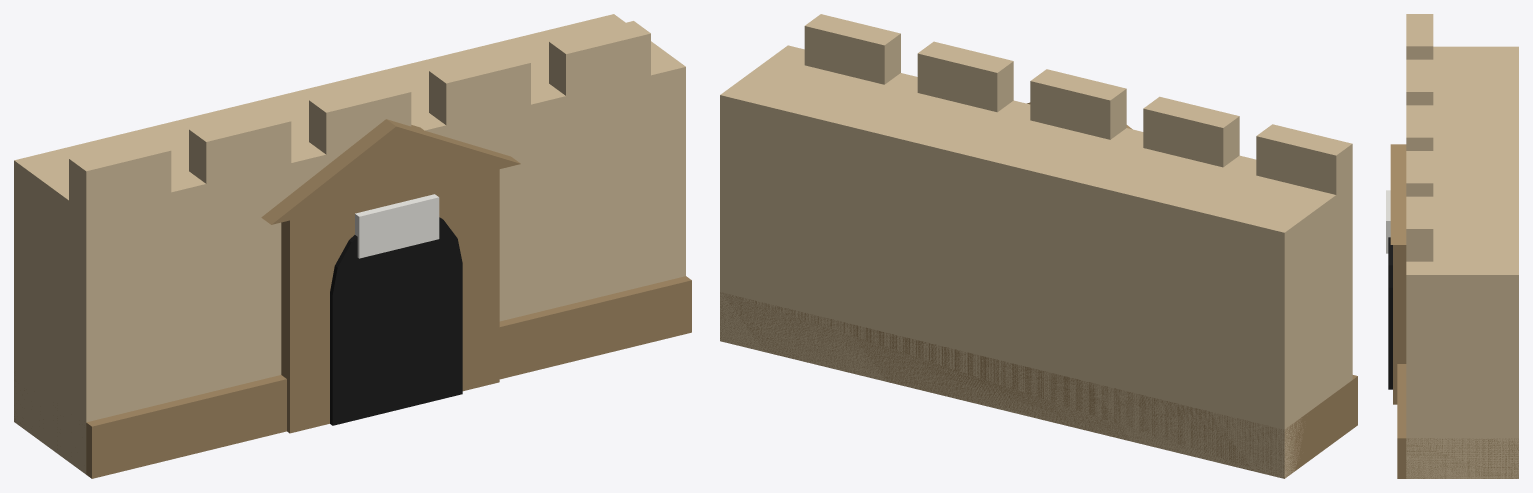
Rendered from portao.glb.
3 renders of one model, left to right at view 1: azimuth 30°, elevation 25°; view 2: azimuth 150°, elevation 25°; view 3: azimuth 270°, elevation 25°, orthographic. The views are drawn at different scales.
Parts seen in each view (by area): view 1: portao; view 2: portao; view 3: portao.
Boxes of the visible parts, x1,y1,x2,y2 form: portao: (14, 14, 691, 478); portao: (720, 14, 1357, 478); portao: (1386, 14, 1518, 478).
Bounding box in the file's own units: 2.4 × 1.16 × 0.59.
